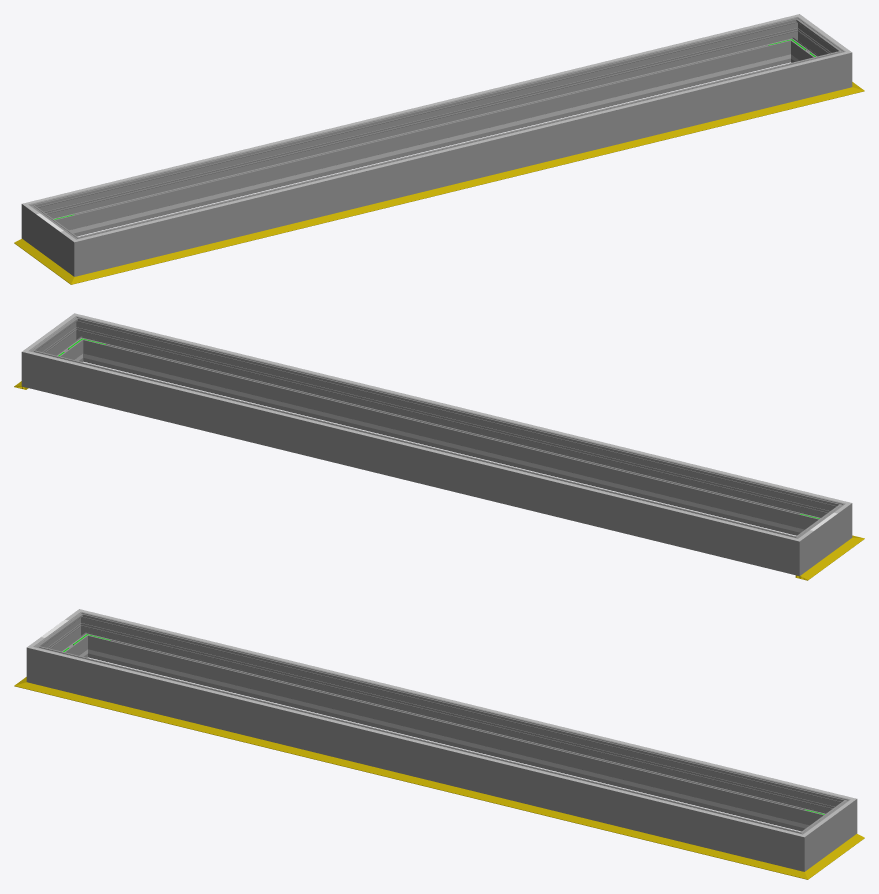
3 renders of one model, top to bottom at view 1: azimuth 30°, elevation 25°; view 2: azimuth 150°, elevation 25°; view 3: azimuth 330°, elevation 25°, orthographic.
Parts seen in each view (by area): view 1: 3DGeom-276, 3DGeom-298, 3DGeom-28, 3DGeom-244, 3DGeom-316, 3DGeom-304, 3DGeom-270, 3DGeom-290, 3DGeom-268, 3DGeom-284, 3DGeom-297, 3DGeom-278; view 2: 3DGeom-298, 3DGeom-276, 3DGeom-239, 3DGeom-304, 3DGeom-316, 3DGeom-278, 3DGeom-284, 3DGeom-268, 3DGeom-290, 3DGeom-297, 3DGeom-270; view 3: 3DGeom-276, 3DGeom-298, 3DGeom-28, 3DGeom-244, 3DGeom-316, 3DGeom-304, 3DGeom-290, 3DGeom-270, 3DGeom-297, 3DGeom-278, 3DGeom-268, 3DGeom-284.
Boxes of the visible parts, <box> form: 3DGeom-276: <box>49,22,786,236</box>; 3DGeom-298: <box>95,55,827,270</box>; 3DGeom-28: <box>91,91,839,278</box>; 3DGeom-244: <box>78,60,766,232</box>; 3DGeom-316: <box>97,57,826,236</box>; 3DGeom-304: <box>47,20,776,199</box>; 3DGeom-270: <box>60,230,99,276</box>; 3DGeom-290: <box>823,43,852,92</box>; 3DGeom-268: <box>36,212,67,265</box>; 3DGeom-284: <box>777,14,809,63</box>; 3DGeom-297: <box>793,25,833,62</box>; 3DGeom-278: <box>21,199,58,248</box>; 3DGeom-298: <box>87,321,824,535</box>; 3DGeom-276: <box>46,354,779,569</box>; 3DGeom-239: <box>107,359,795,531</box>; 3DGeom-304: <box>47,356,776,535</box>; 3DGeom-316: <box>97,319,826,498</box>; 3DGeom-278: <box>775,529,813,575</box>; 3DGeom-284: <box>21,342,50,392</box>; 3DGeom-268: <box>806,511,837,565</box>; 3DGeom-290: <box>64,316,96,362</box>; 3DGeom-297: <box>40,324,80,361</box>; 3DGeom-270: <box>815,498,852,547</box>; 3DGeom-276: <box>92,617,829,831</box>; 3DGeom-298: <box>51,650,783,865</box>; 3DGeom-28: <box>39,686,787,873</box>; 3DGeom-244: <box>112,655,800,827</box>; 3DGeom-316: <box>52,652,781,831</box>; 3DGeom-304: <box>102,615,831,794</box>; 3DGeom-290: <box>779,825,818,871</box>; 3DGeom-270: <box>26,638,55,687</box>; 3DGeom-297: <box>811,807,842,860</box>; 3DGeom-278: <box>69,609,101,658</box>; 3DGeom-268: <box>45,620,85,657</box>; 3DGeom-284: <box>820,794,857,843</box>.
Size of the model in its own units: 4.88 by 0.2195 by 0.6096.
